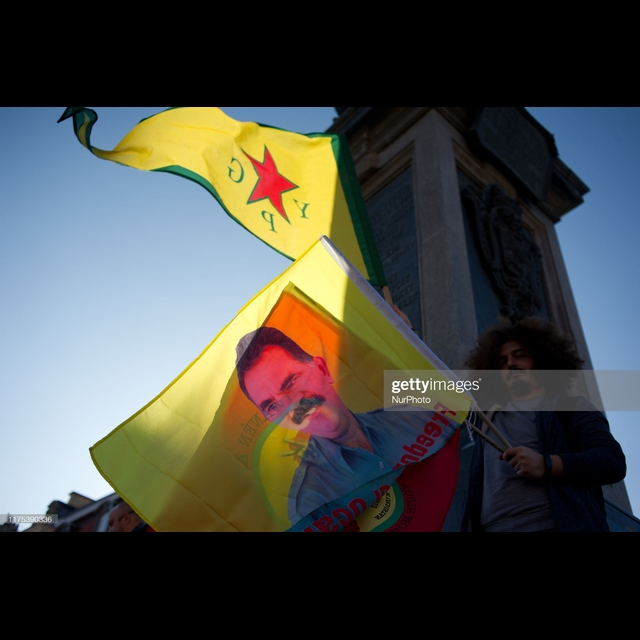YPG: (224, 137, 321, 235)
